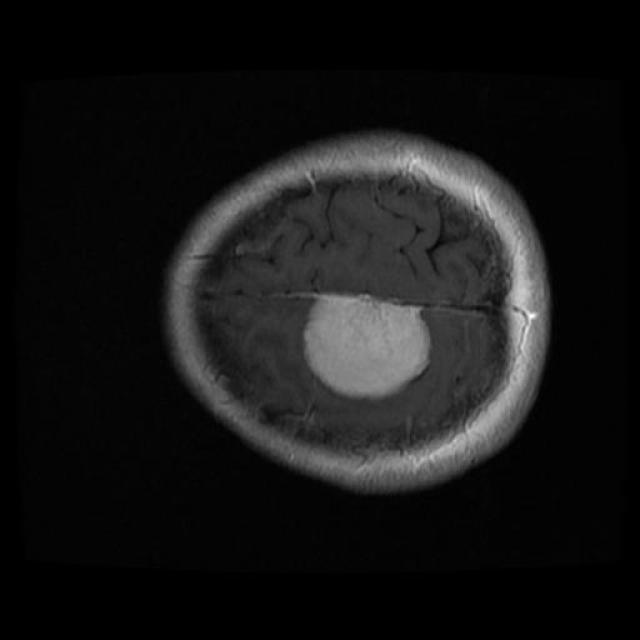Meningioma: (304, 295, 429, 398)
